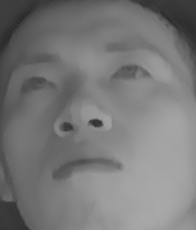eye: (109, 56, 156, 88), (17, 73, 60, 98)
mouth: (48, 145, 124, 184)
